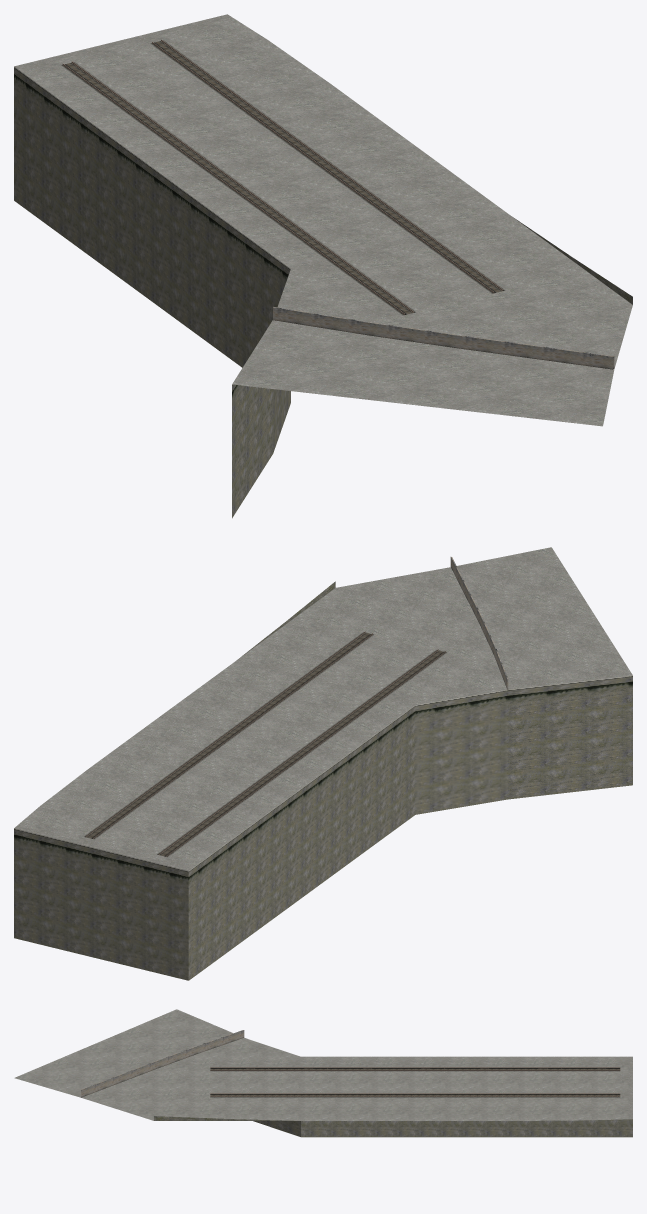
File: airport_14c_sfse.obj
The picture shows the model from 3 angles, top to bottom: view 1: azimuth 30°, elevation 25°; view 2: azimuth 150°, elevation 25°; view 3: azimuth 270°, elevation 25°; orthographic projection. The views are drawn at different scales.
Parts seen in each view (by area): view 1: Airport_14C_SFSe; view 2: Airport_14C_SFSe; view 3: Airport_14C_SFSe.
Boxes of the visible parts, x1,y1,x2,y2 form: Airport_14C_SFSe: (14,14,632,518); Airport_14C_SFSe: (14,547,632,980); Airport_14C_SFSe: (14,1009,632,1137).
Size of the model in its own units: 72.24 by 26.56 by 169.
Materials: 5 (5 with a texture image).
